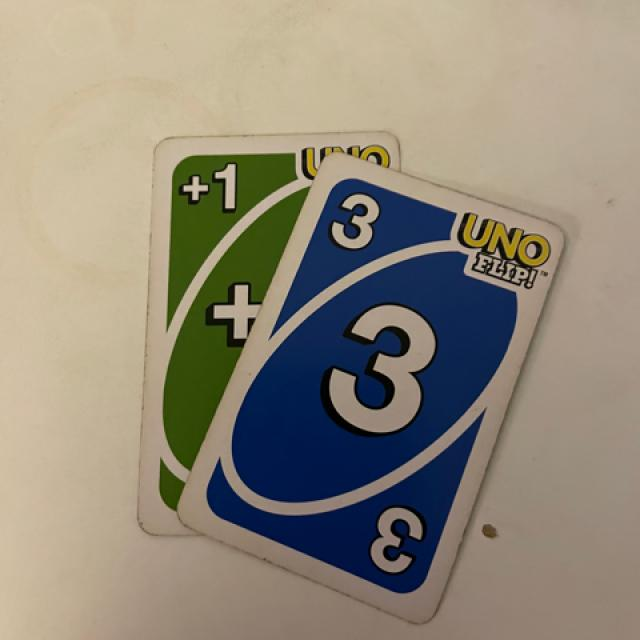lblue-3: (325, 174, 389, 270)
